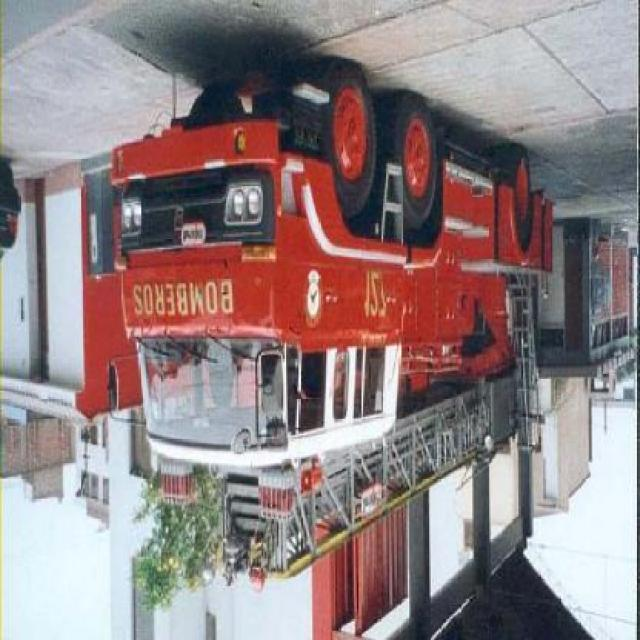truck: (107, 68, 558, 477)
